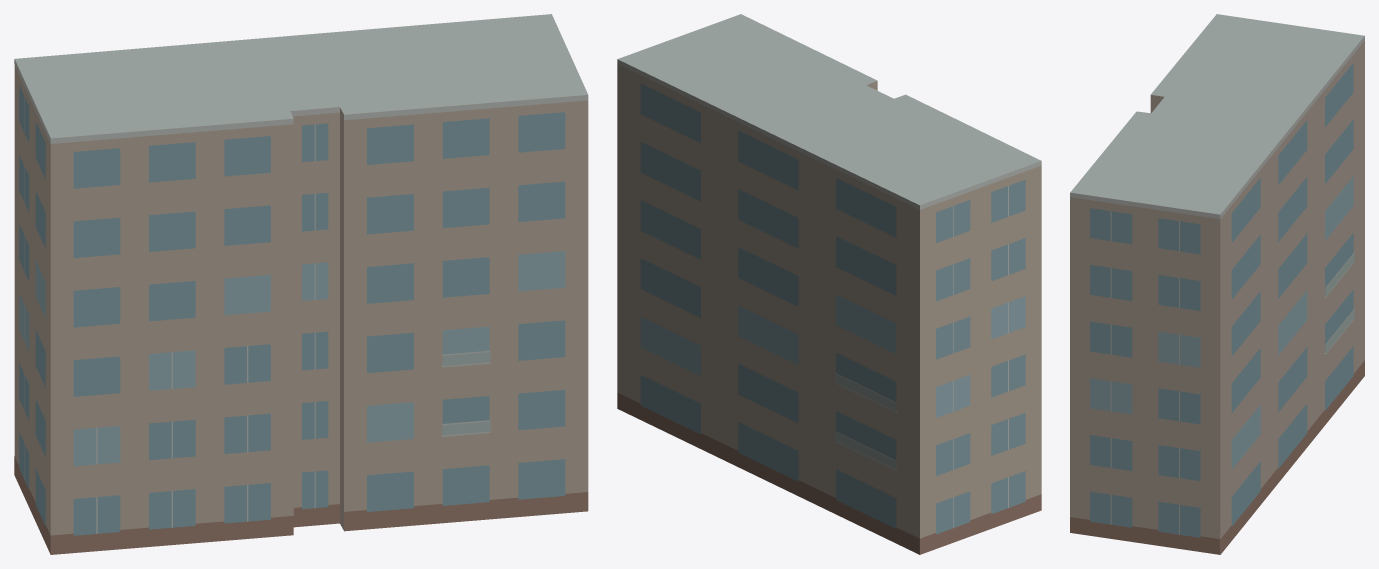
Rendered from survey-upis-32541063.glb.
The picture shows the model from 3 angles, left to right: view 1: azimuth 30°, elevation 25°; view 2: azimuth 150°, elevation 25°; view 3: azimuth 270°, elevation 25°; orthographic projection. The views are drawn at different scales.
Parts seen in each view (by area): view 1: survey-upis-32541063.tmp; view 2: survey-upis-32541063.tmp; view 3: survey-upis-32541063.tmp.
Boxes of the visible parts, x1=… form: survey-upis-32541063.tmp: x1=14, y1=14, x2=588, y2=554; survey-upis-32541063.tmp: x1=617, y1=14, x2=1041, y2=554; survey-upis-32541063.tmp: x1=1070, y1=14, x2=1364, y2=554.
Bounding box in the file's own units: 23.16 × 18.3 × 14.38.
